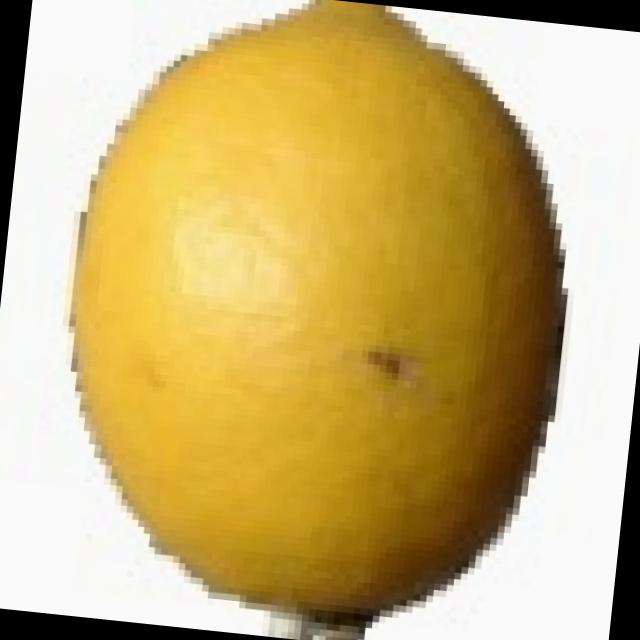lemon: (32, 0, 602, 628)
